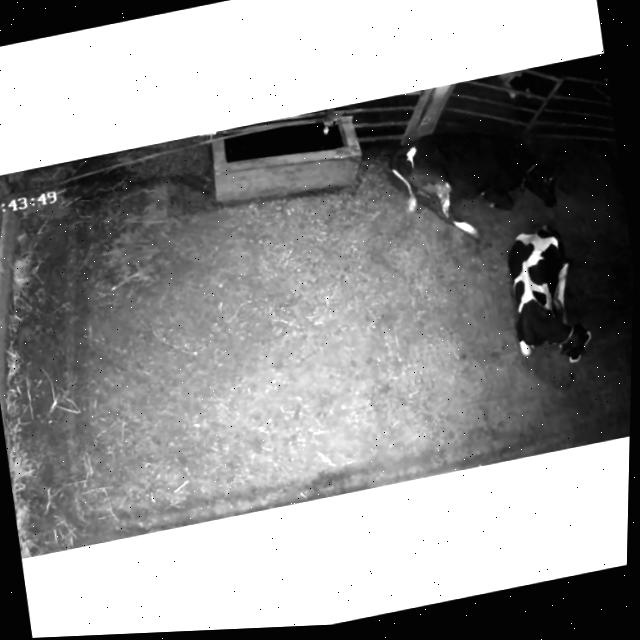lay: (371, 94, 581, 255), (492, 203, 605, 381)
